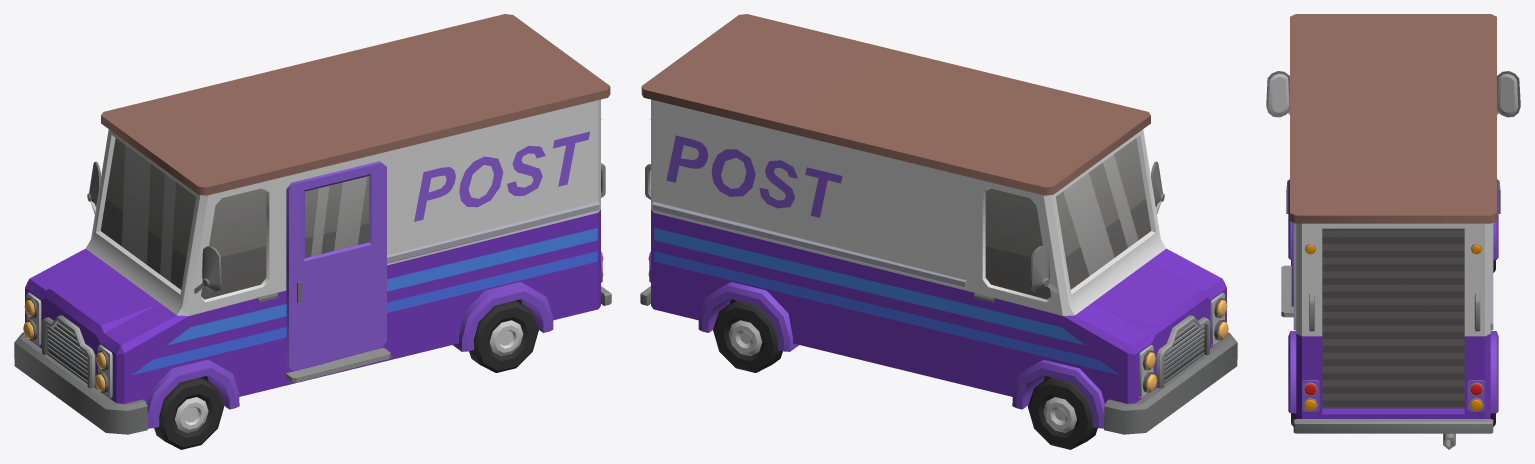
Rendered from PostCar_1_G.gltf.
The picture shows the model from 3 angles, left to right: view 1: azimuth 30°, elevation 25°; view 2: azimuth 150°, elevation 25°; view 3: azimuth 270°, elevation 25°; orthographic projection.
Parts seen in each view (by area): view 1: PostCar_1_G, RL, FL; view 2: PostCar_1_G, RR, FR; view 3: PostCar_1_G.
Boxes of the visible parts, bbox=[...] form: PostCar_1_G: bbox=[14, 14, 611, 434]; RL: bbox=[469, 300, 538, 372]; FL: bbox=[154, 377, 223, 449]; PostCar_1_G: bbox=[640, 14, 1237, 434]; RR: bbox=[713, 300, 782, 372]; FR: bbox=[1028, 377, 1097, 449]; PostCar_1_G: bbox=[1266, 14, 1520, 449].
Size of the model in its own units: 4.14 by 2.02 by 1.8.
Materials: 5 (5 with a texture image).
